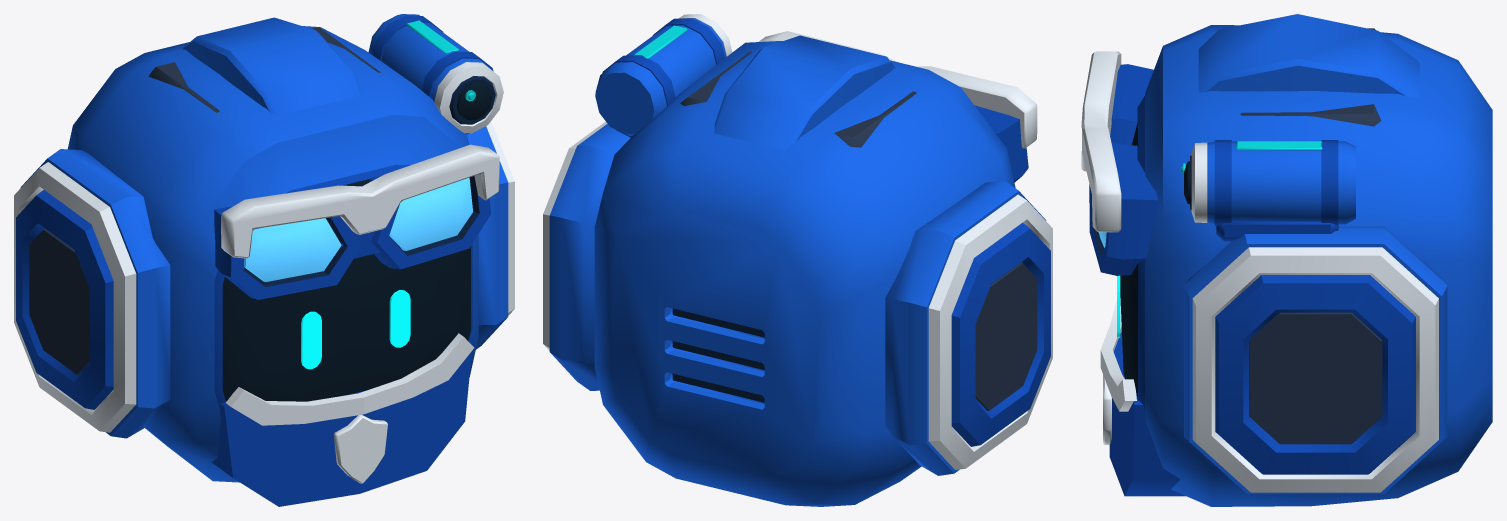
File: copilot_security_v01.glb
3 views of the same model, side by side, from view 1: azimuth 30°, elevation 25°; view 2: azimuth 150°, elevation 25°; view 3: azimuth 270°, elevation 25° (orthographic). The views are drawn at different scales.
Parts seen in each view (by area): view 1: security_model; view 2: security_model; view 3: security_model.
Boxes of the visible parts, <box> form: security_model: <box>14,14,514,506</box>; security_model: <box>543,14,1052,506</box>; security_model: <box>1081,14,1492,506</box>.
Size of the model in its own units: 2.58 by 2.36 by 2.05.
Materials: 2 (2 with a texture image).
